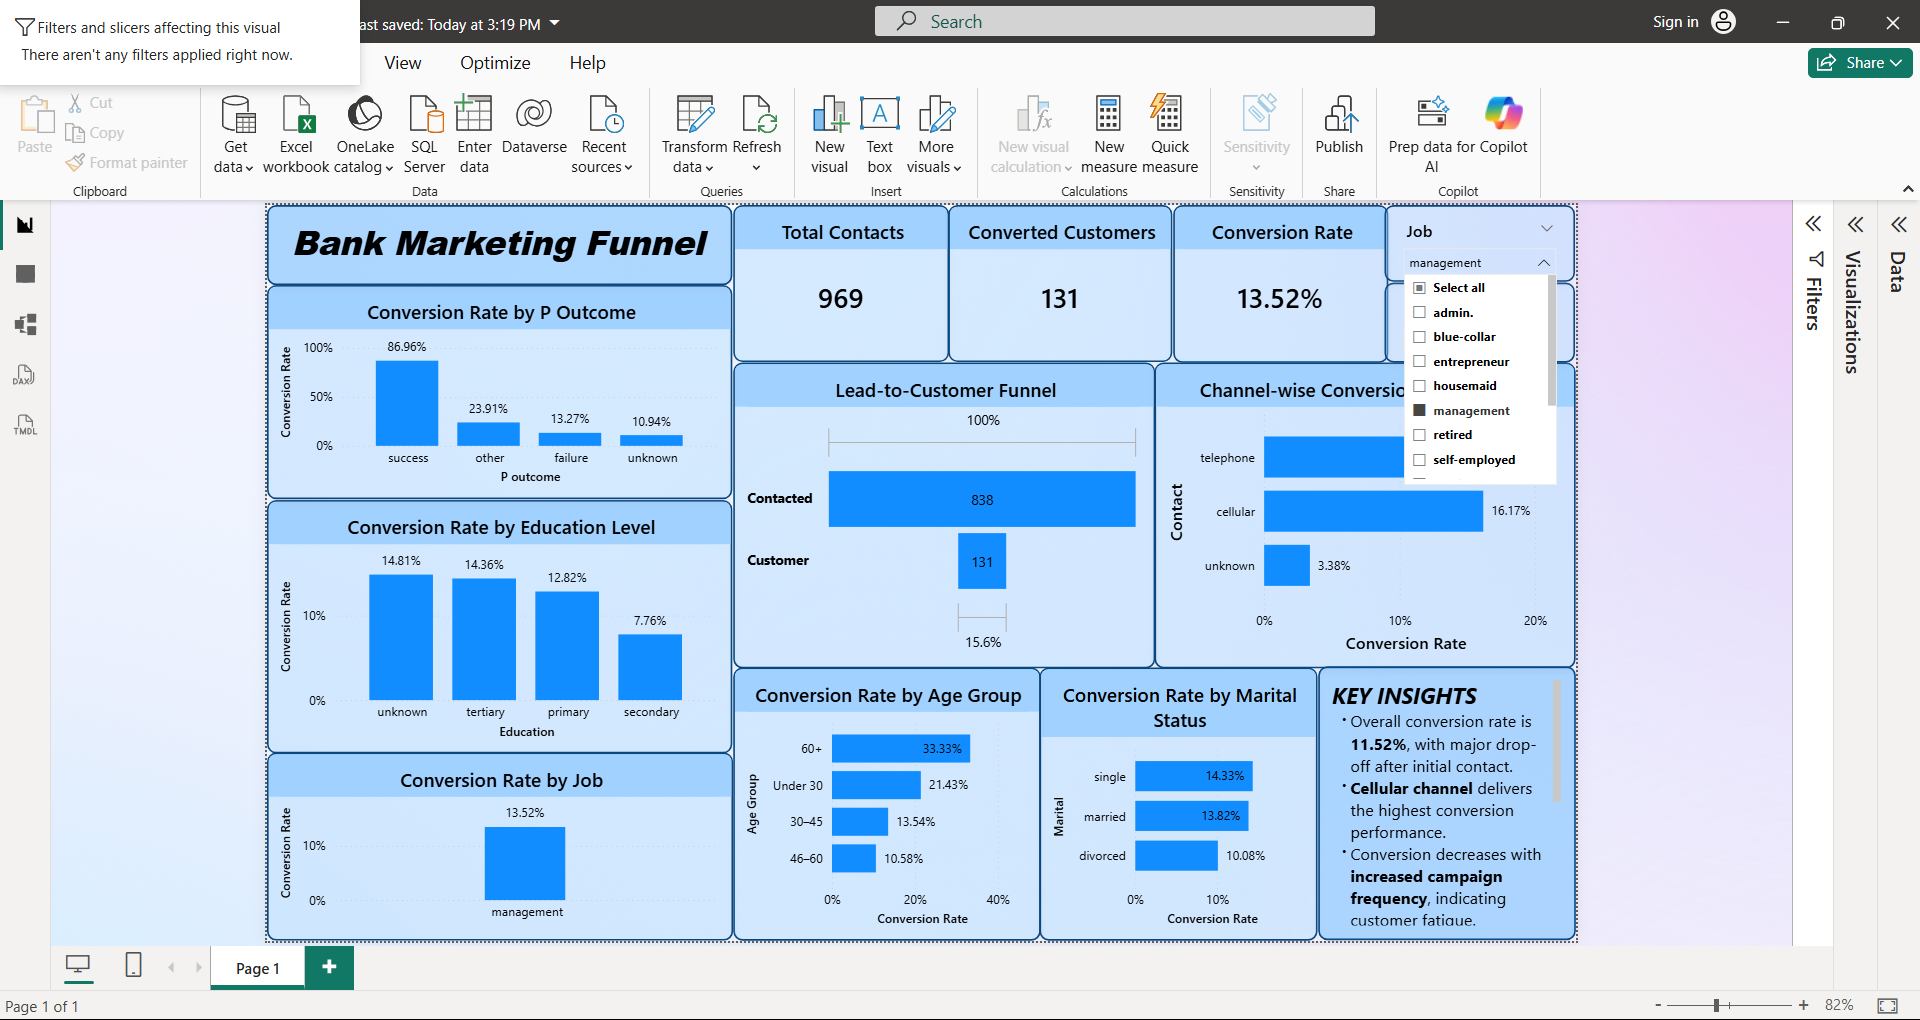

The page's visual inventory and layout, read from the dashboard file:
{"tool":"powerbi","page":{"name":"Page 1","canvas":[1280,720],"ordinal":0},"visuals":[{"type":"card","title":"Total Contacts","fields":{"Values":["Cleaned_Bank_data.Total Contacts"]},"box":[455.6,0,211.3,153.7],"z":0},{"type":"card","title":"Converted Customers","fields":{"Values":["Cleaned_Bank_data.Total Customers"]},"box":[666.9,0,219.6,153.7],"z":1000},{"type":"card","title":"Conversion Rate","fields":{"Values":["Cleaned_Bank_data.Conversion Rate"]},"box":[886.6,0,210.3,154.1],"z":2000},{"type":"funnel","title":"Lead-to-Customer Funnel","fields":{"Y":["Cleaned_Bank_data.Funnel Count"],"Category":["Cleaned_Bank_data.Funnel Stage"]},"box":[455.6,153.7,413,299.1],"z":3000},{"type":"clusteredBarChart","title":"Channel-wise Conversion Performance","fields":{"Category":["Cleaned_Bank_data.Contact"],"Y":["Cleaned_Bank_data.Conversion Rate"]},"box":[868.6,153.7,411.7,299.1],"z":4000},{"type":"slicer","fields":{"Values":["Cleaned_Bank_data.Month"]},"box":[1093.7,75.5,186.6,78.2],"z":5000},{"type":"slicer","fields":{"Values":["Cleaned_Bank_data.Job"]},"box":[1093.7,0,186.6,75.5],"z":6000},{"type":"clusteredBarChart","title":"Conversion Rate by Marital Status","fields":{"Category":["Cleaned_Bank_data.Marital"],"Y":["Cleaned_Bank_data.Conversion Rate"]},"box":[756.1,452.8,271.7,267.6],"z":7000},{"type":"clusteredColumnChart","title":"Conversion Rate by Education Level","fields":{"Category":["Cleaned_Bank_data.Education"],"Y":["Cleaned_Bank_data.Conversion Rate"]},"box":[0,288.2,455.6,248.4],"z":8000},{"type":"clusteredBarChart","fields":{"Category":["Cleaned_Bank_data.Age Group"],"Y":["Cleaned_Bank_data.Conversion Rate"]},"box":[455.6,452.8,300.5,267.6],"z":9000},{"type":"clusteredColumnChart","title":"Conversion Rate by P Outcome","fields":{"Y":["Cleaned_Bank_data.Conversion Rate"],"Category":["Cleaned_Bank_data.P out Come"]},"box":[0,78.2,455.6,209.9],"z":10000},{"type":"textbox","title":"Bank Marketing Funnel","box":[0,0,455.6,78.2],"z":11000},{"type":"clusteredColumnChart","fields":{"Category":["Cleaned_Bank_data.Job"],"Y":["Cleaned_Bank_data.Conversion Rate"]},"box":[0,536,456,184],"z":12000},{"type":"textbox","box":[1028.4,451.2,251.9,267.8],"z":13000}]}

Visuals, with their boxes on the page's 1280x720 design canvas (x1, y1, x2, y2). These are canvas units, not pixel positions in the 1920x1020 screenshot, which may show the page scaled, cropped or inside an application window:
"Total Contacts" card: x1=456, y1=0, x2=667, y2=154
"Converted Customers" card: x1=667, y1=0, x2=886, y2=154
"Conversion Rate" card: x1=887, y1=0, x2=1097, y2=154
"Lead-to-Customer Funnel" funnel: x1=456, y1=154, x2=869, y2=453
"Channel-wise Conversion Performance" clusteredBarChart: x1=869, y1=154, x2=1280, y2=453
slicer - Cleaned_Bank_data.Month: x1=1094, y1=76, x2=1280, y2=154
slicer - Cleaned_Bank_data.Job: x1=1094, y1=0, x2=1280, y2=76
"Conversion Rate by Marital Status" clusteredBarChart: x1=756, y1=453, x2=1028, y2=720
"Conversion Rate by Education Level" clusteredColumnChart: x1=0, y1=288, x2=456, y2=537
clusteredBarChart - Cleaned_Bank_data.Age Group x Cleaned_Bank_data.Conversion Rate: x1=456, y1=453, x2=756, y2=720
"Conversion Rate by P Outcome" clusteredColumnChart: x1=0, y1=78, x2=456, y2=288
"Bank Marketing Funnel" textbox: x1=0, y1=0, x2=456, y2=78
clusteredColumnChart - Cleaned_Bank_data.Job x Cleaned_Bank_data.Conversion Rate: x1=0, y1=536, x2=456, y2=720
textbox: x1=1028, y1=451, x2=1280, y2=719
